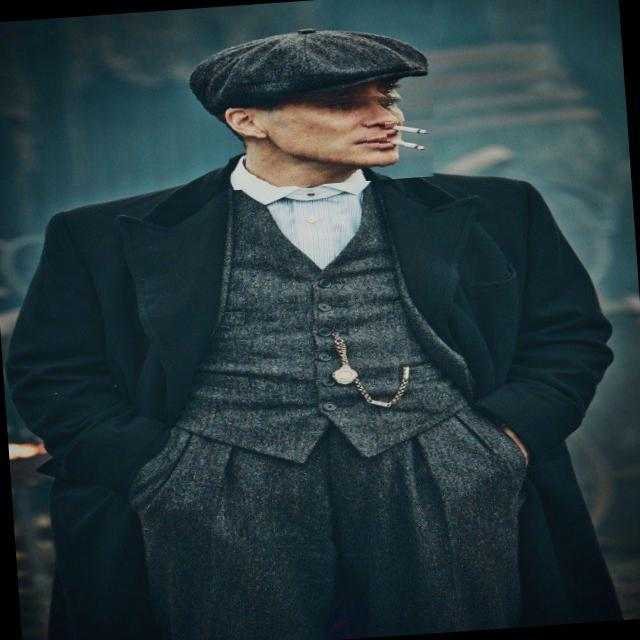cigarette: (384, 117, 450, 141)
